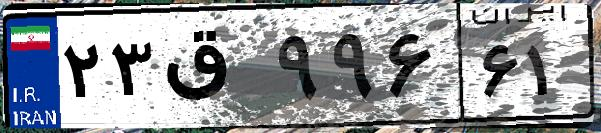1: (525, 38, 570, 115)
2: (57, 26, 110, 100)
3: (110, 28, 158, 98)
6: (385, 28, 445, 110), (475, 38, 525, 113)
9: (270, 28, 330, 110), (330, 28, 385, 110)
ق: (158, 20, 270, 120)
